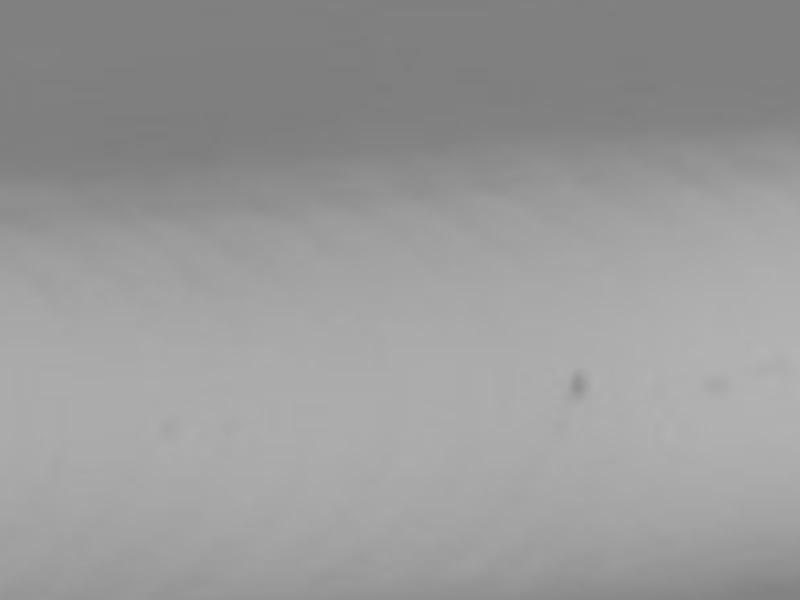defect: (564, 368, 588, 397), (699, 372, 726, 395)
